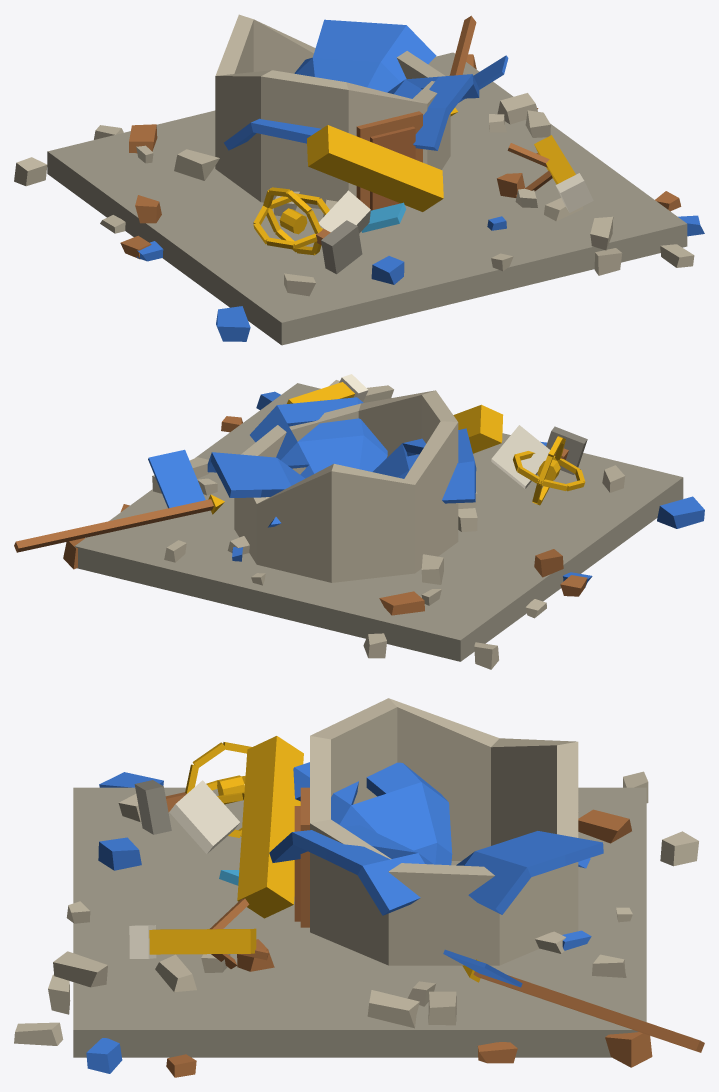
Rendered from observatory_t2_v1_dmg2.glb.
3 renders of one model, top to bottom at view 1: azimuth 30°, elevation 25°; view 2: azimuth 150°, elevation 25°; view 3: azimuth 270°, elevation 25°, orthographic. The views are drawn at different scales.
Visible parts, largest first — view 1: observatory_t2_v1_dmg2; view 2: observatory_t2_v1_dmg2; view 3: observatory_t2_v1_dmg2.
Part boxes in pixels (x1,y1,x2,y2): observatory_t2_v1_dmg2: (14,14,704,345); observatory_t2_v1_dmg2: (14,374,704,669); observatory_t2_v1_dmg2: (14,698,704,1077).
Bounding box in the file's own units: 0.9108 × 0.2623 × 0.9038.
Materials: 1 (1 with a texture image).
